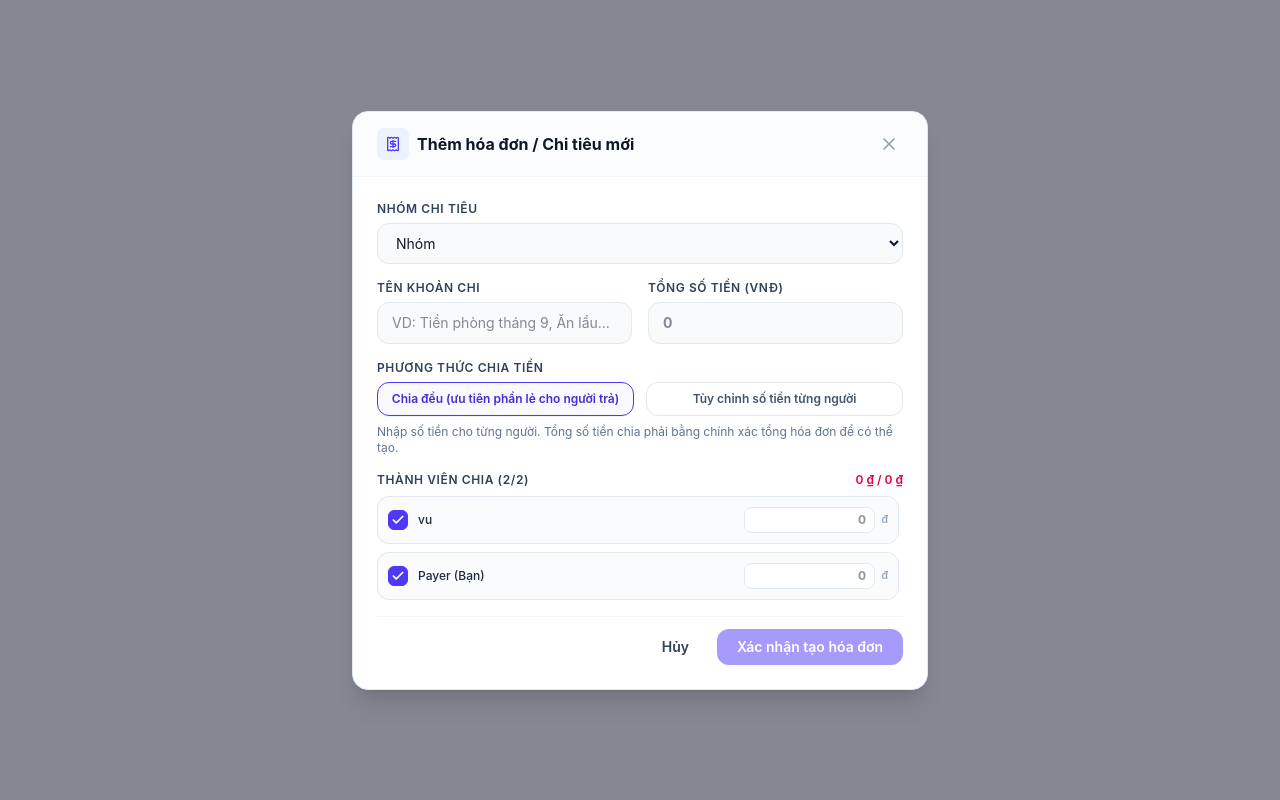
Test case: under-allocated shares show difference, disable submit, and equal split button resets
Check: the text "vu" is shown, box [418,512,432,528]
In the field named "Tổng số tiền": (776, 322) [648,302,903,344], type "111111"
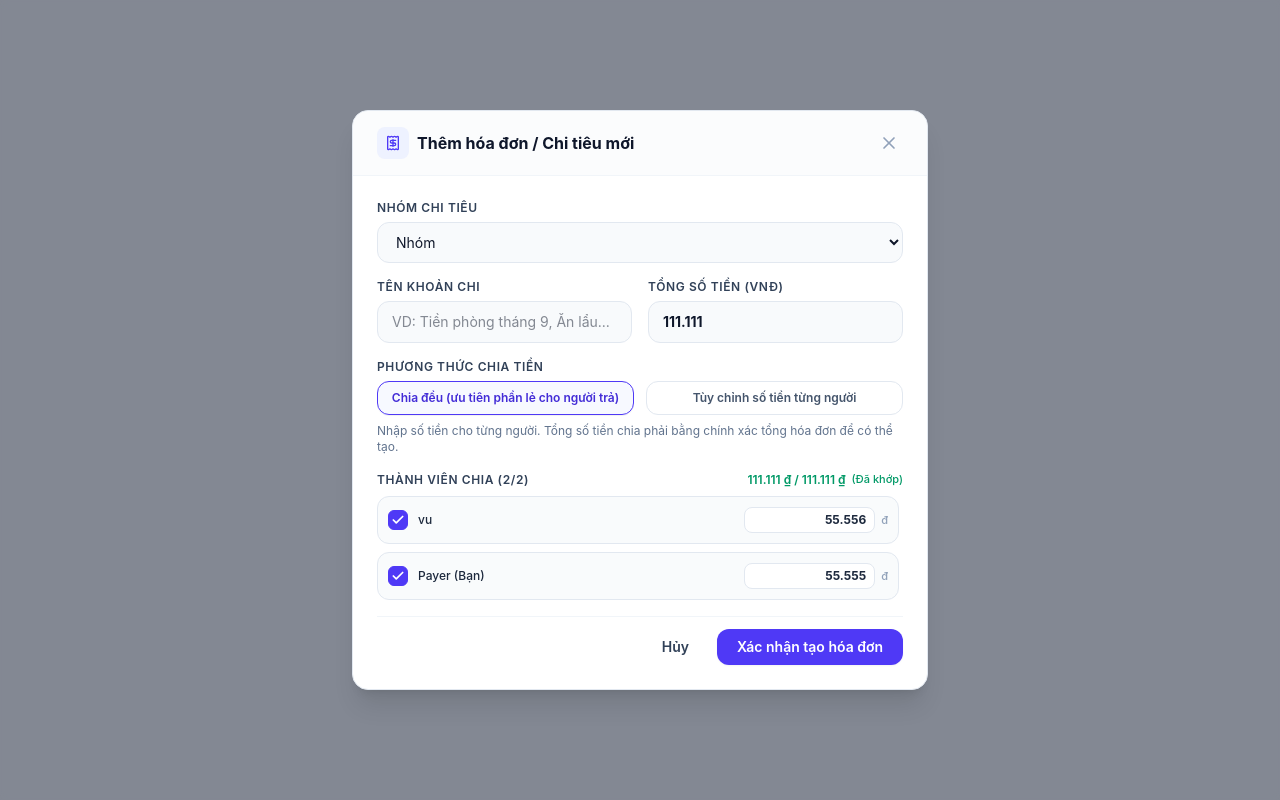
Check: the text "(Đã khớp)" is shown, box [852,471,903,488]
Edit vu to 50000
Replace the text in the field named "Số tiền của vu" with "50000": (810, 520) [744,507,875,533]
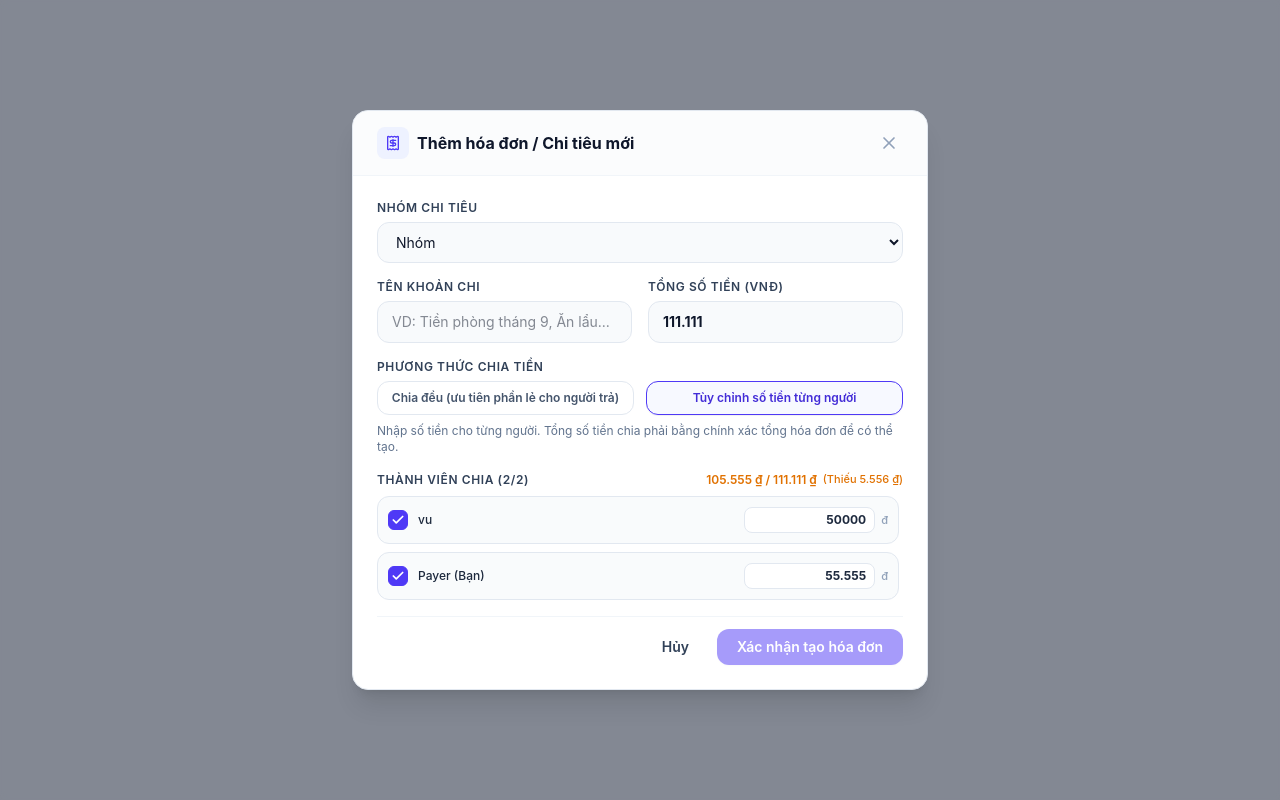
Check: the field named "Số tiền của Payer" holds "55.555", box [744,563,875,589]
Press Enter in the field named "Số tiền của vu", box [744,507,875,533]
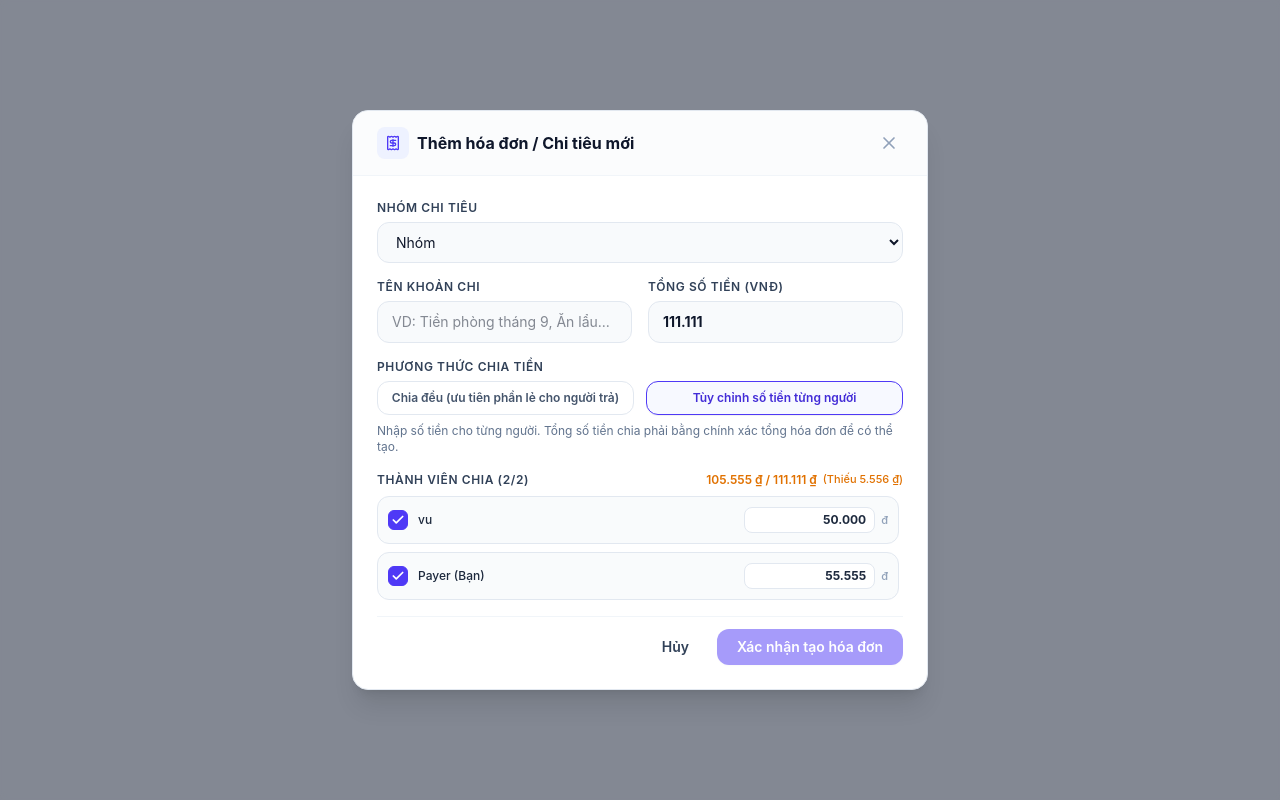
Check: the field named "Số tiền của Payer" holds "55.555", box [744,563,875,589]
Check: the text "(Thiếu 5.556 ₫)" is shown, box [823,471,903,488]
Check: the button "Xác nhận tạo hóa đơn" is disabled, box [717,629,903,665]
Clicking "Chia đều" resets everyone to balanced equal shares
Click the button "Chia đều (ưu tiên phần lẻ cho người trả)": (506, 398) [377,381,634,415]
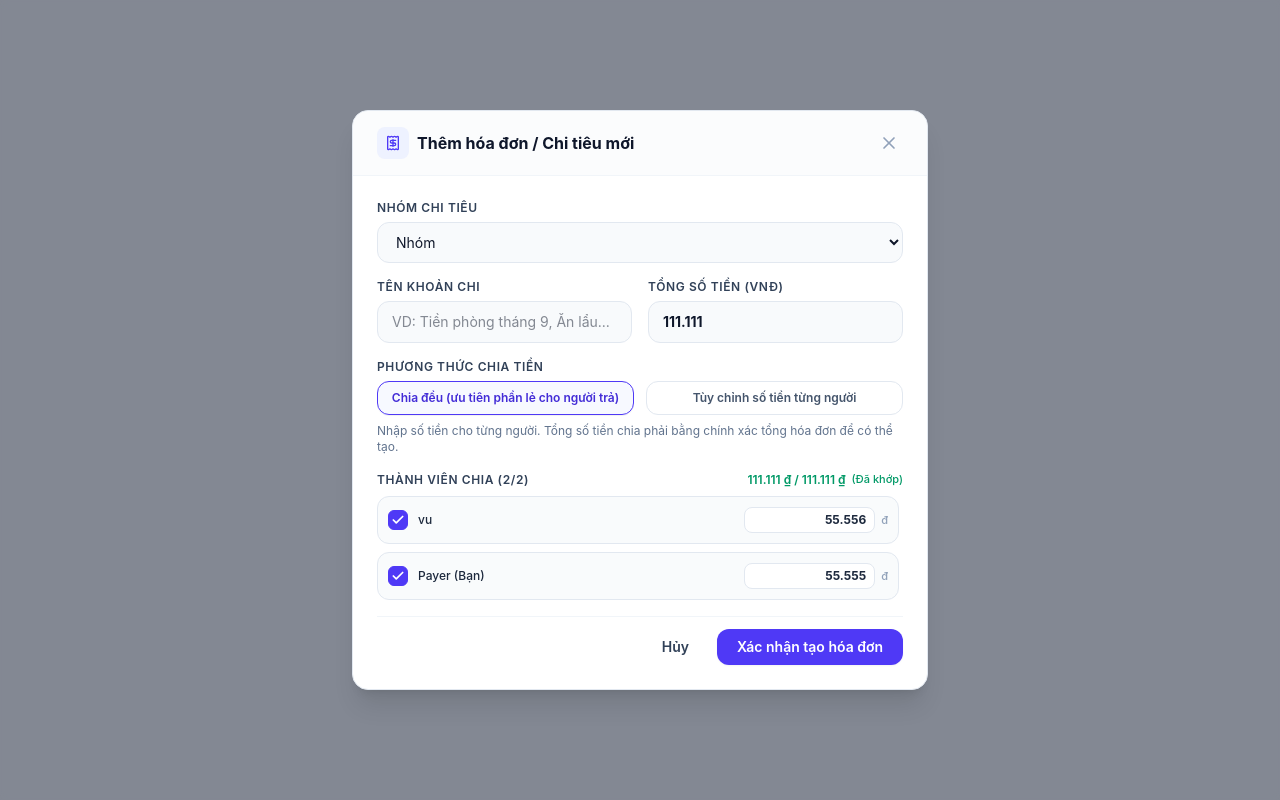
Check: the field named "Số tiền của Payer" holds "55.555", box [744,563,875,589]
Check: the field named "Số tiền của vu" holds "55.556", box [744,507,875,533]
Check: the text "(Đã khớp)" is shown, box [852,471,903,488]
